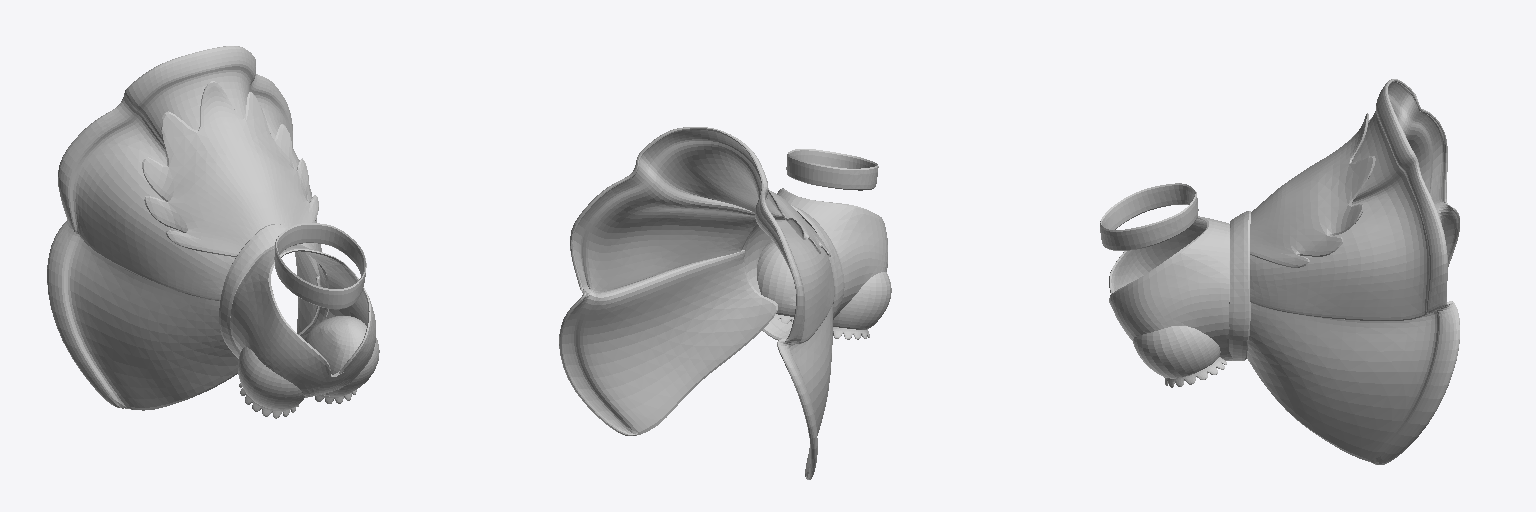
Rendered from 2ndmodel.obj.
The picture shows the model from 3 angles: view 1: azimuth 30°, elevation 25°; view 2: azimuth 150°, elevation 25°; view 3: azimuth 270°, elevation 25°; orthographic projection.
Parts seen in each view (by area): view 1: cancan_dress_body0_model0.001_cancan_dress_body0_model0.006; view 2: cancan_dress_body0_model0.001_cancan_dress_body0_model0.006; view 3: cancan_dress_body0_model0.001_cancan_dress_body0_model0.006.
Boxes of the visible parts, x1,y1,x2,y2 form: cancan_dress_body0_model0.001_cancan_dress_body0_model0.006: [47, 46, 379, 418]; cancan_dress_body0_model0.001_cancan_dress_body0_model0.006: [559, 127, 891, 479]; cancan_dress_body0_model0.001_cancan_dress_body0_model0.006: [1100, 79, 1459, 464].
Bounding box in the file's own units: 23.93 × 30.44 × 29.96.